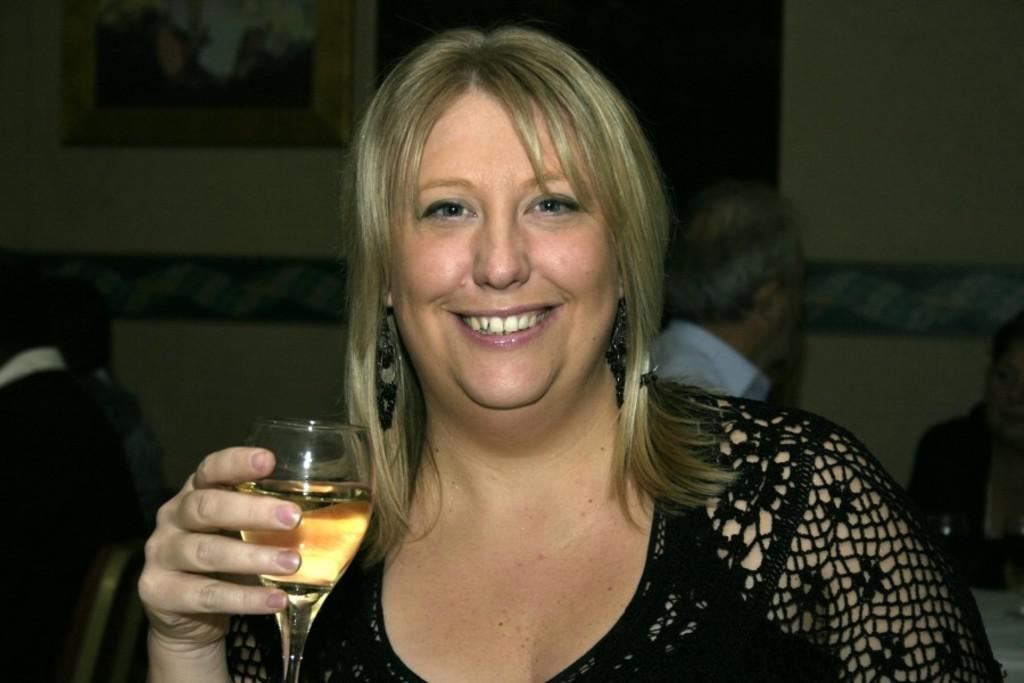glass-wine: (241, 421, 376, 682)
